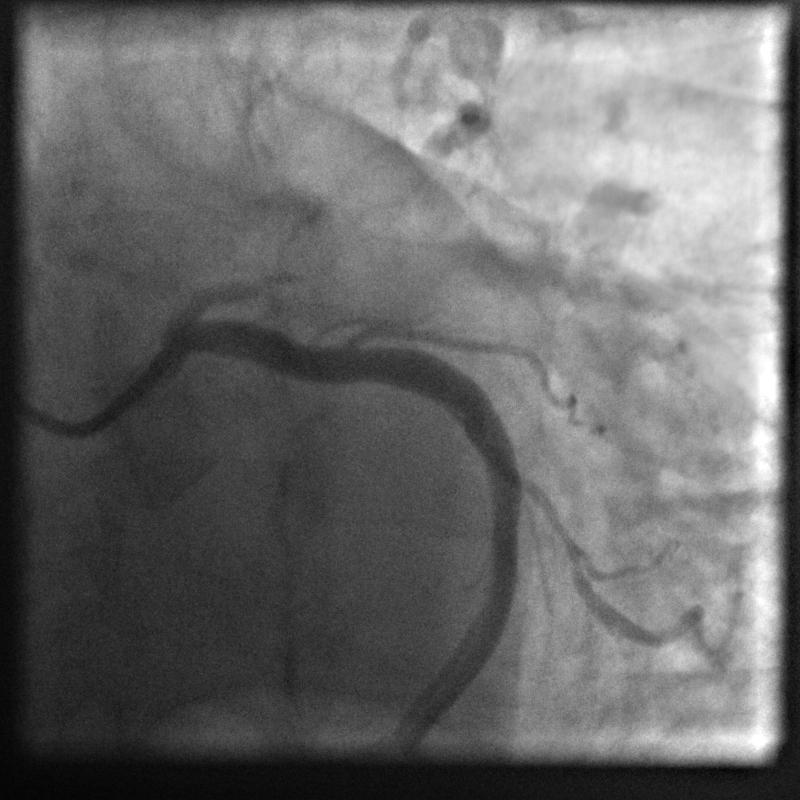Stenosis: (488, 423, 600, 583)
